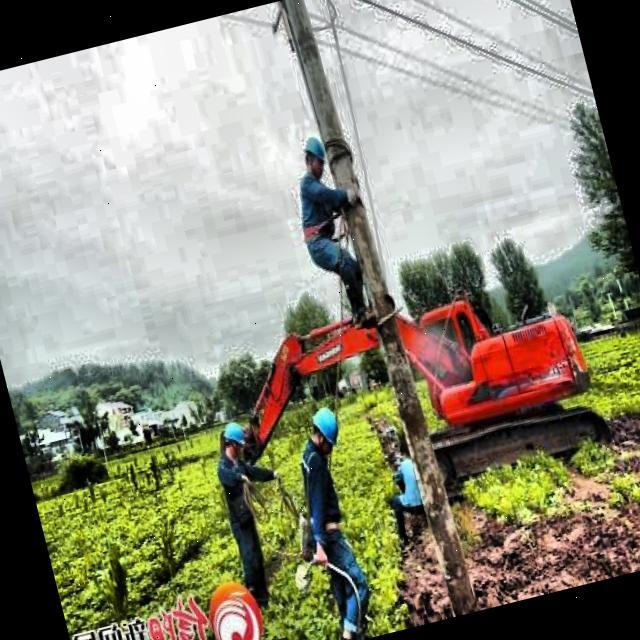helmet: (304, 401, 346, 458), (295, 128, 332, 180), (215, 416, 254, 464)
